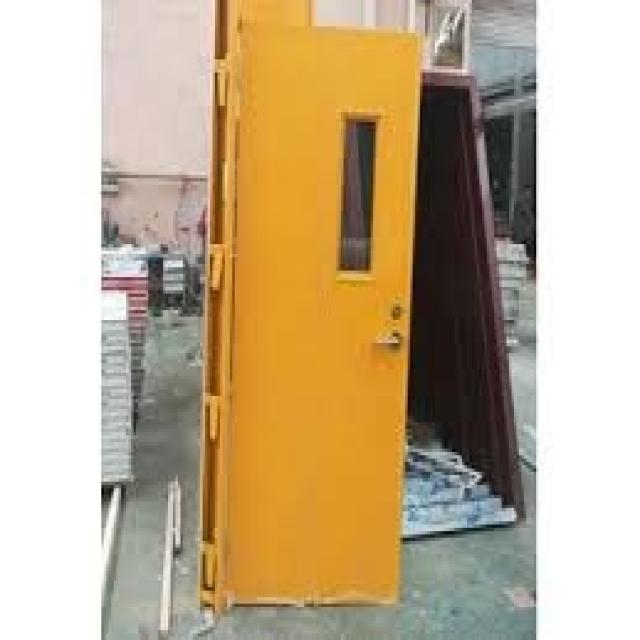door: (212, 15, 426, 609)
